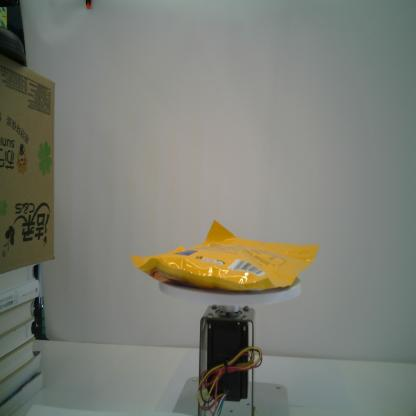Dried Fruit: (131, 219, 320, 292)
